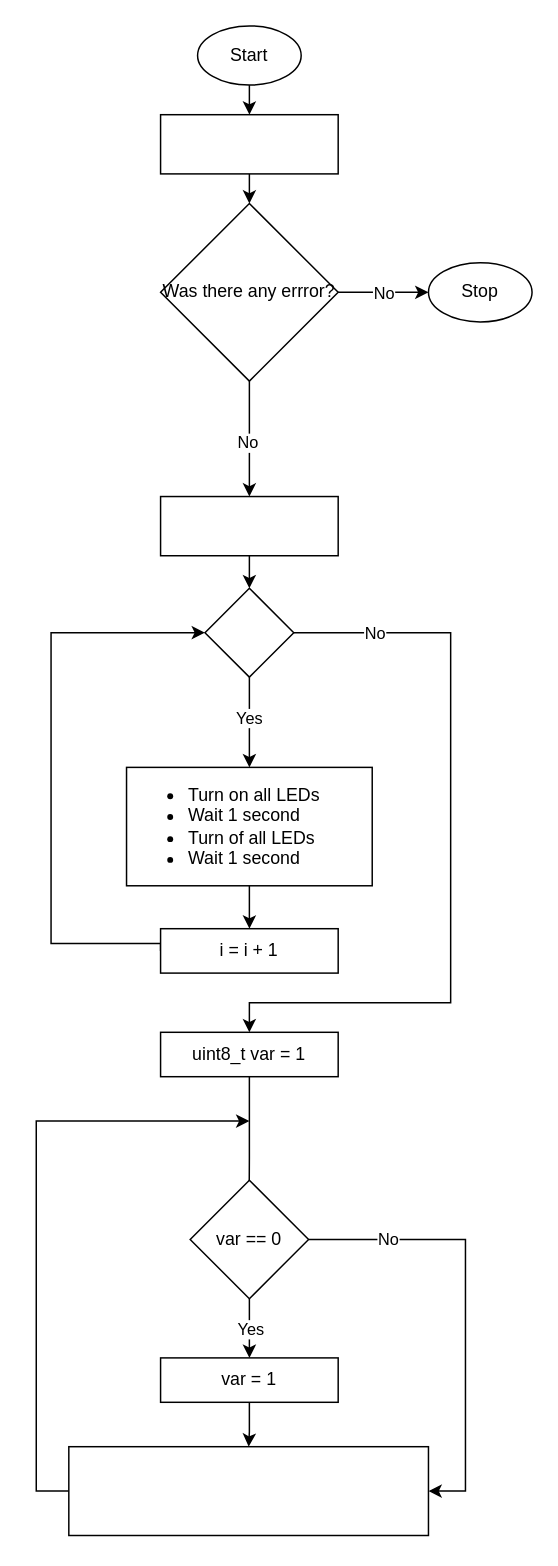
Some shapes in this 558 by 1566 pixel diagram are drawn without their labels. The centre of each missing label's shape, as x and y in pixels:
i < 5: the point at 249,632
int i = 0: the point at 248,525
Turn on GPIO pins: the point at 248,143
Turn on the LEDs = [var.split()] var = var * 2 Wait 1 second: the point at 247,1490
